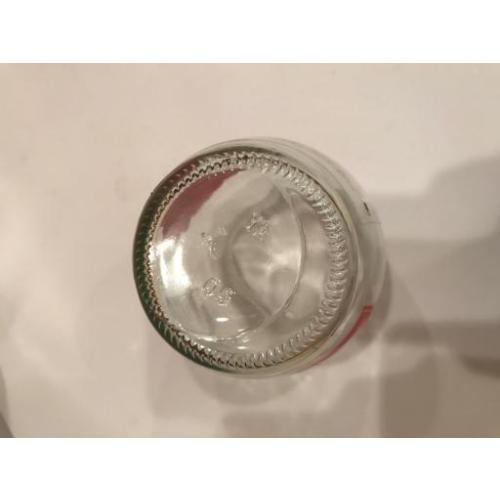glass: (140, 138, 385, 375)
